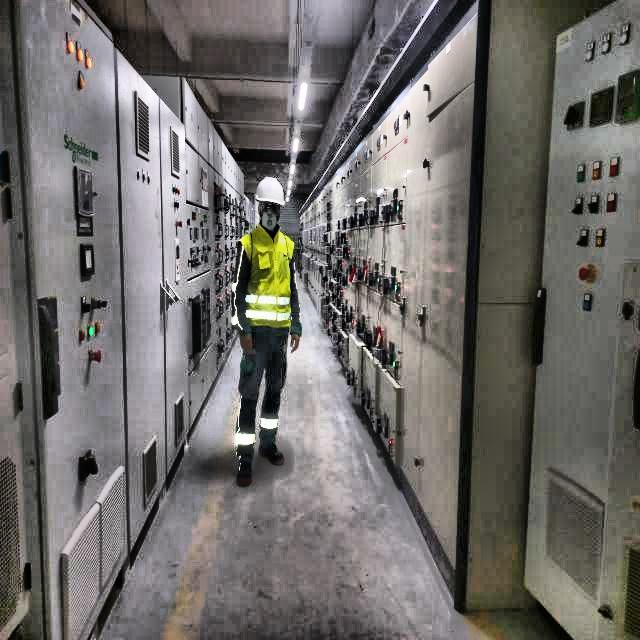safety_helmet: (256, 175, 288, 207)
safety_jacket: (240, 223, 296, 334)
